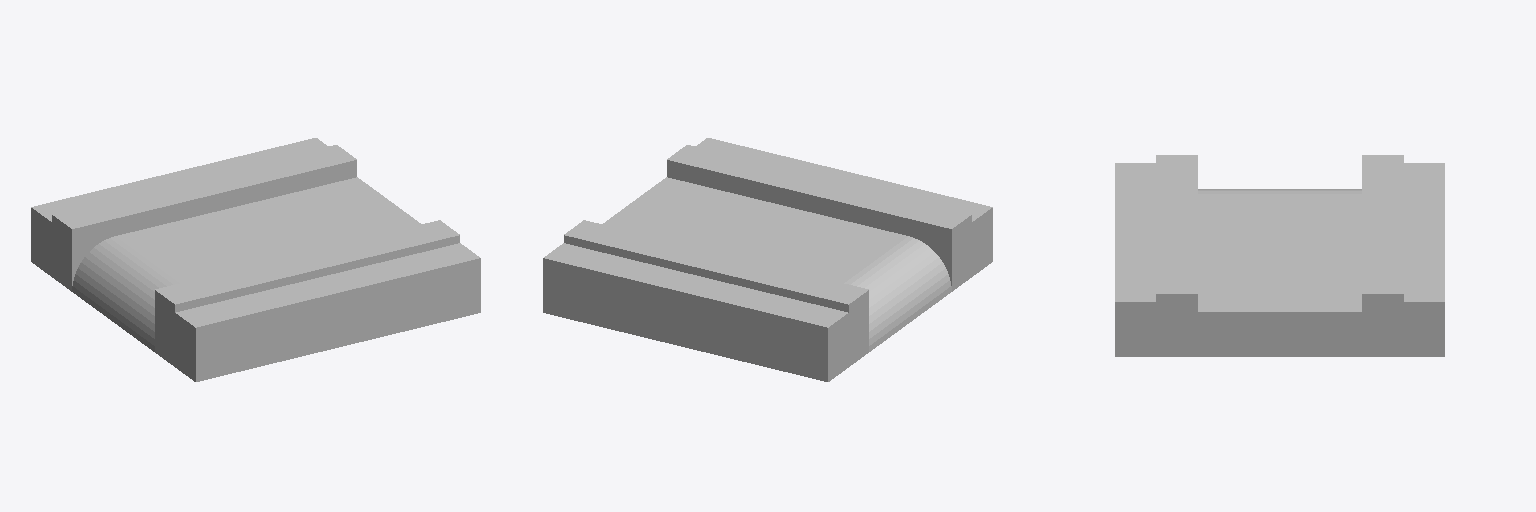
File: tile241.obj
3 views of the same model, side by side, from view 1: azimuth 30°, elevation 25°; view 2: azimuth 150°, elevation 25°; view 3: azimuth 270°, elevation 25° (orthographic).
Visible parts, largest first — view 1: tile241; view 2: tile241; view 3: tile241.
Boxes of the visible parts, x1,y1,x2,y2 form: tile241: [31, 138, 480, 381]; tile241: [543, 138, 992, 381]; tile241: [1115, 155, 1444, 356].
Bounding box in the file's own units: 1 × 0.21 × 1.